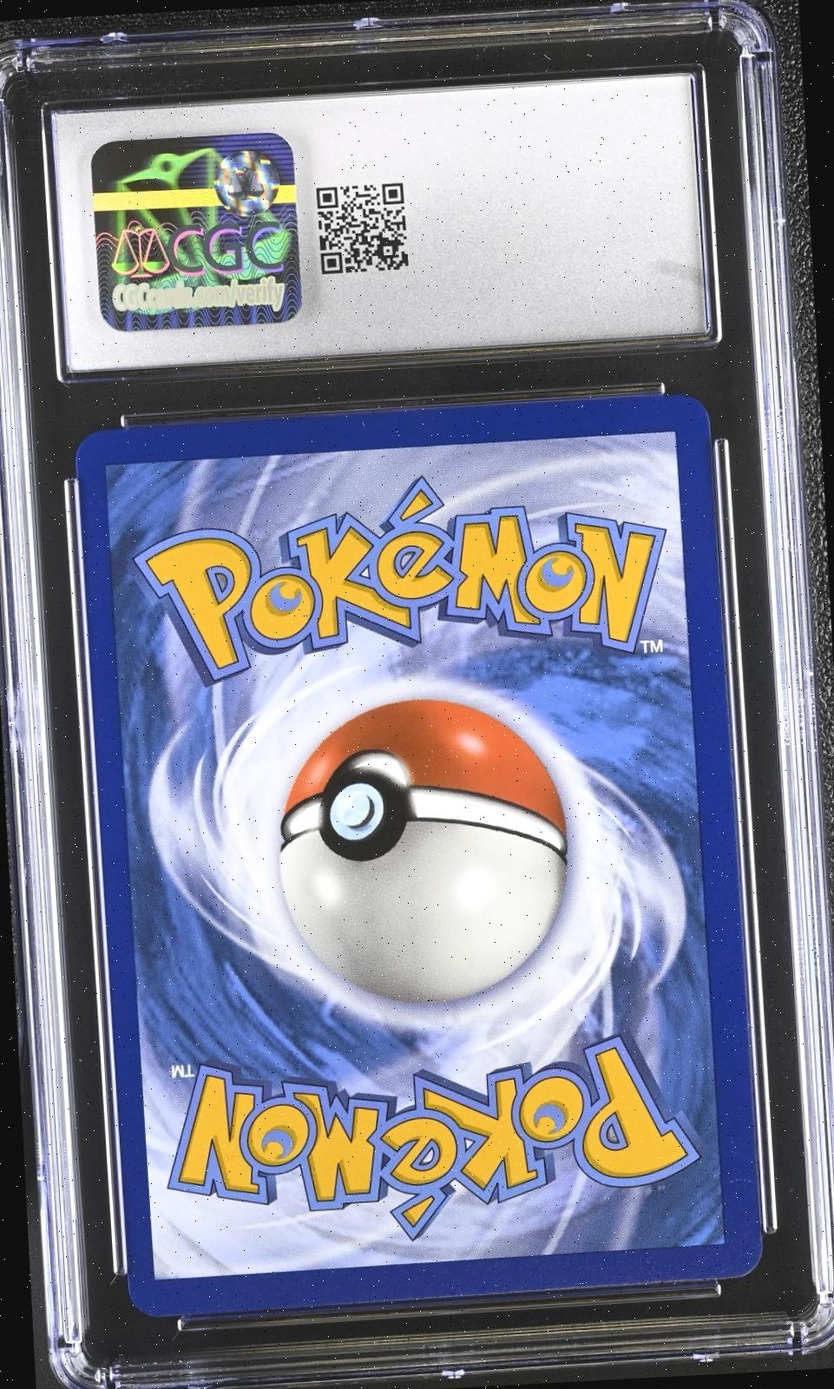card-2UtV: (74, 393, 763, 1318)
